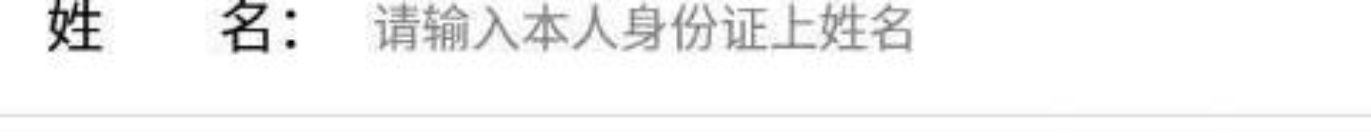EditText: (1, 1, 1370, 139)
